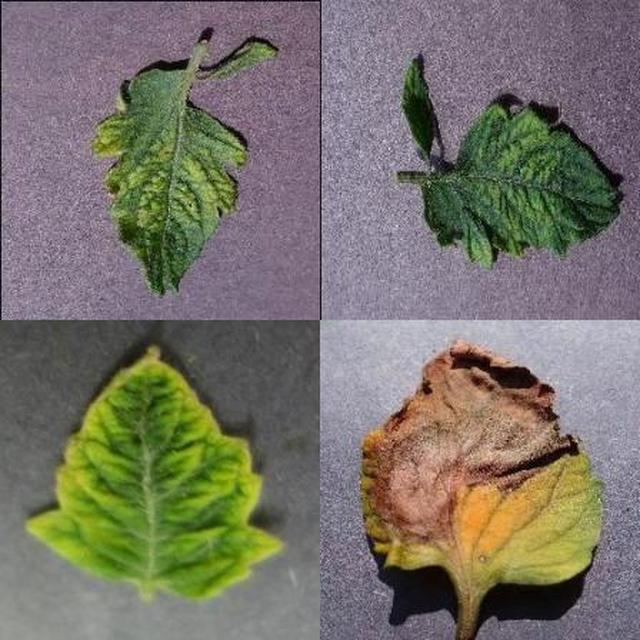Mosaic Virus Leaf: (53, 64, 640, 640)
